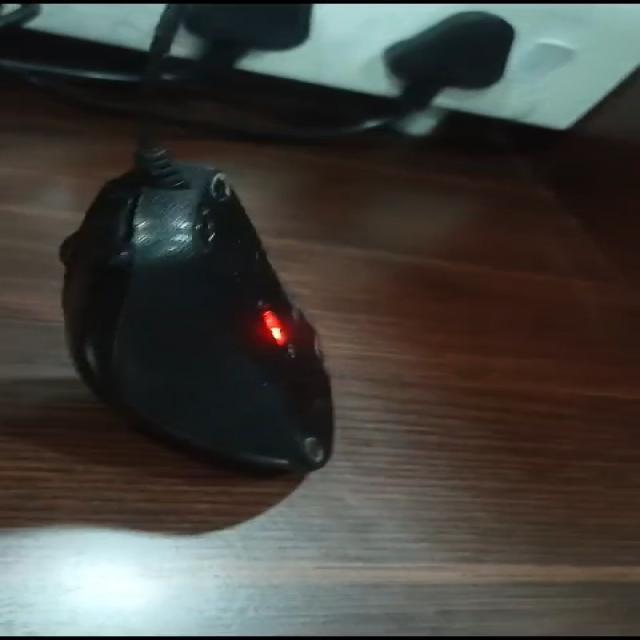Mouse: (32, 119, 478, 556)
